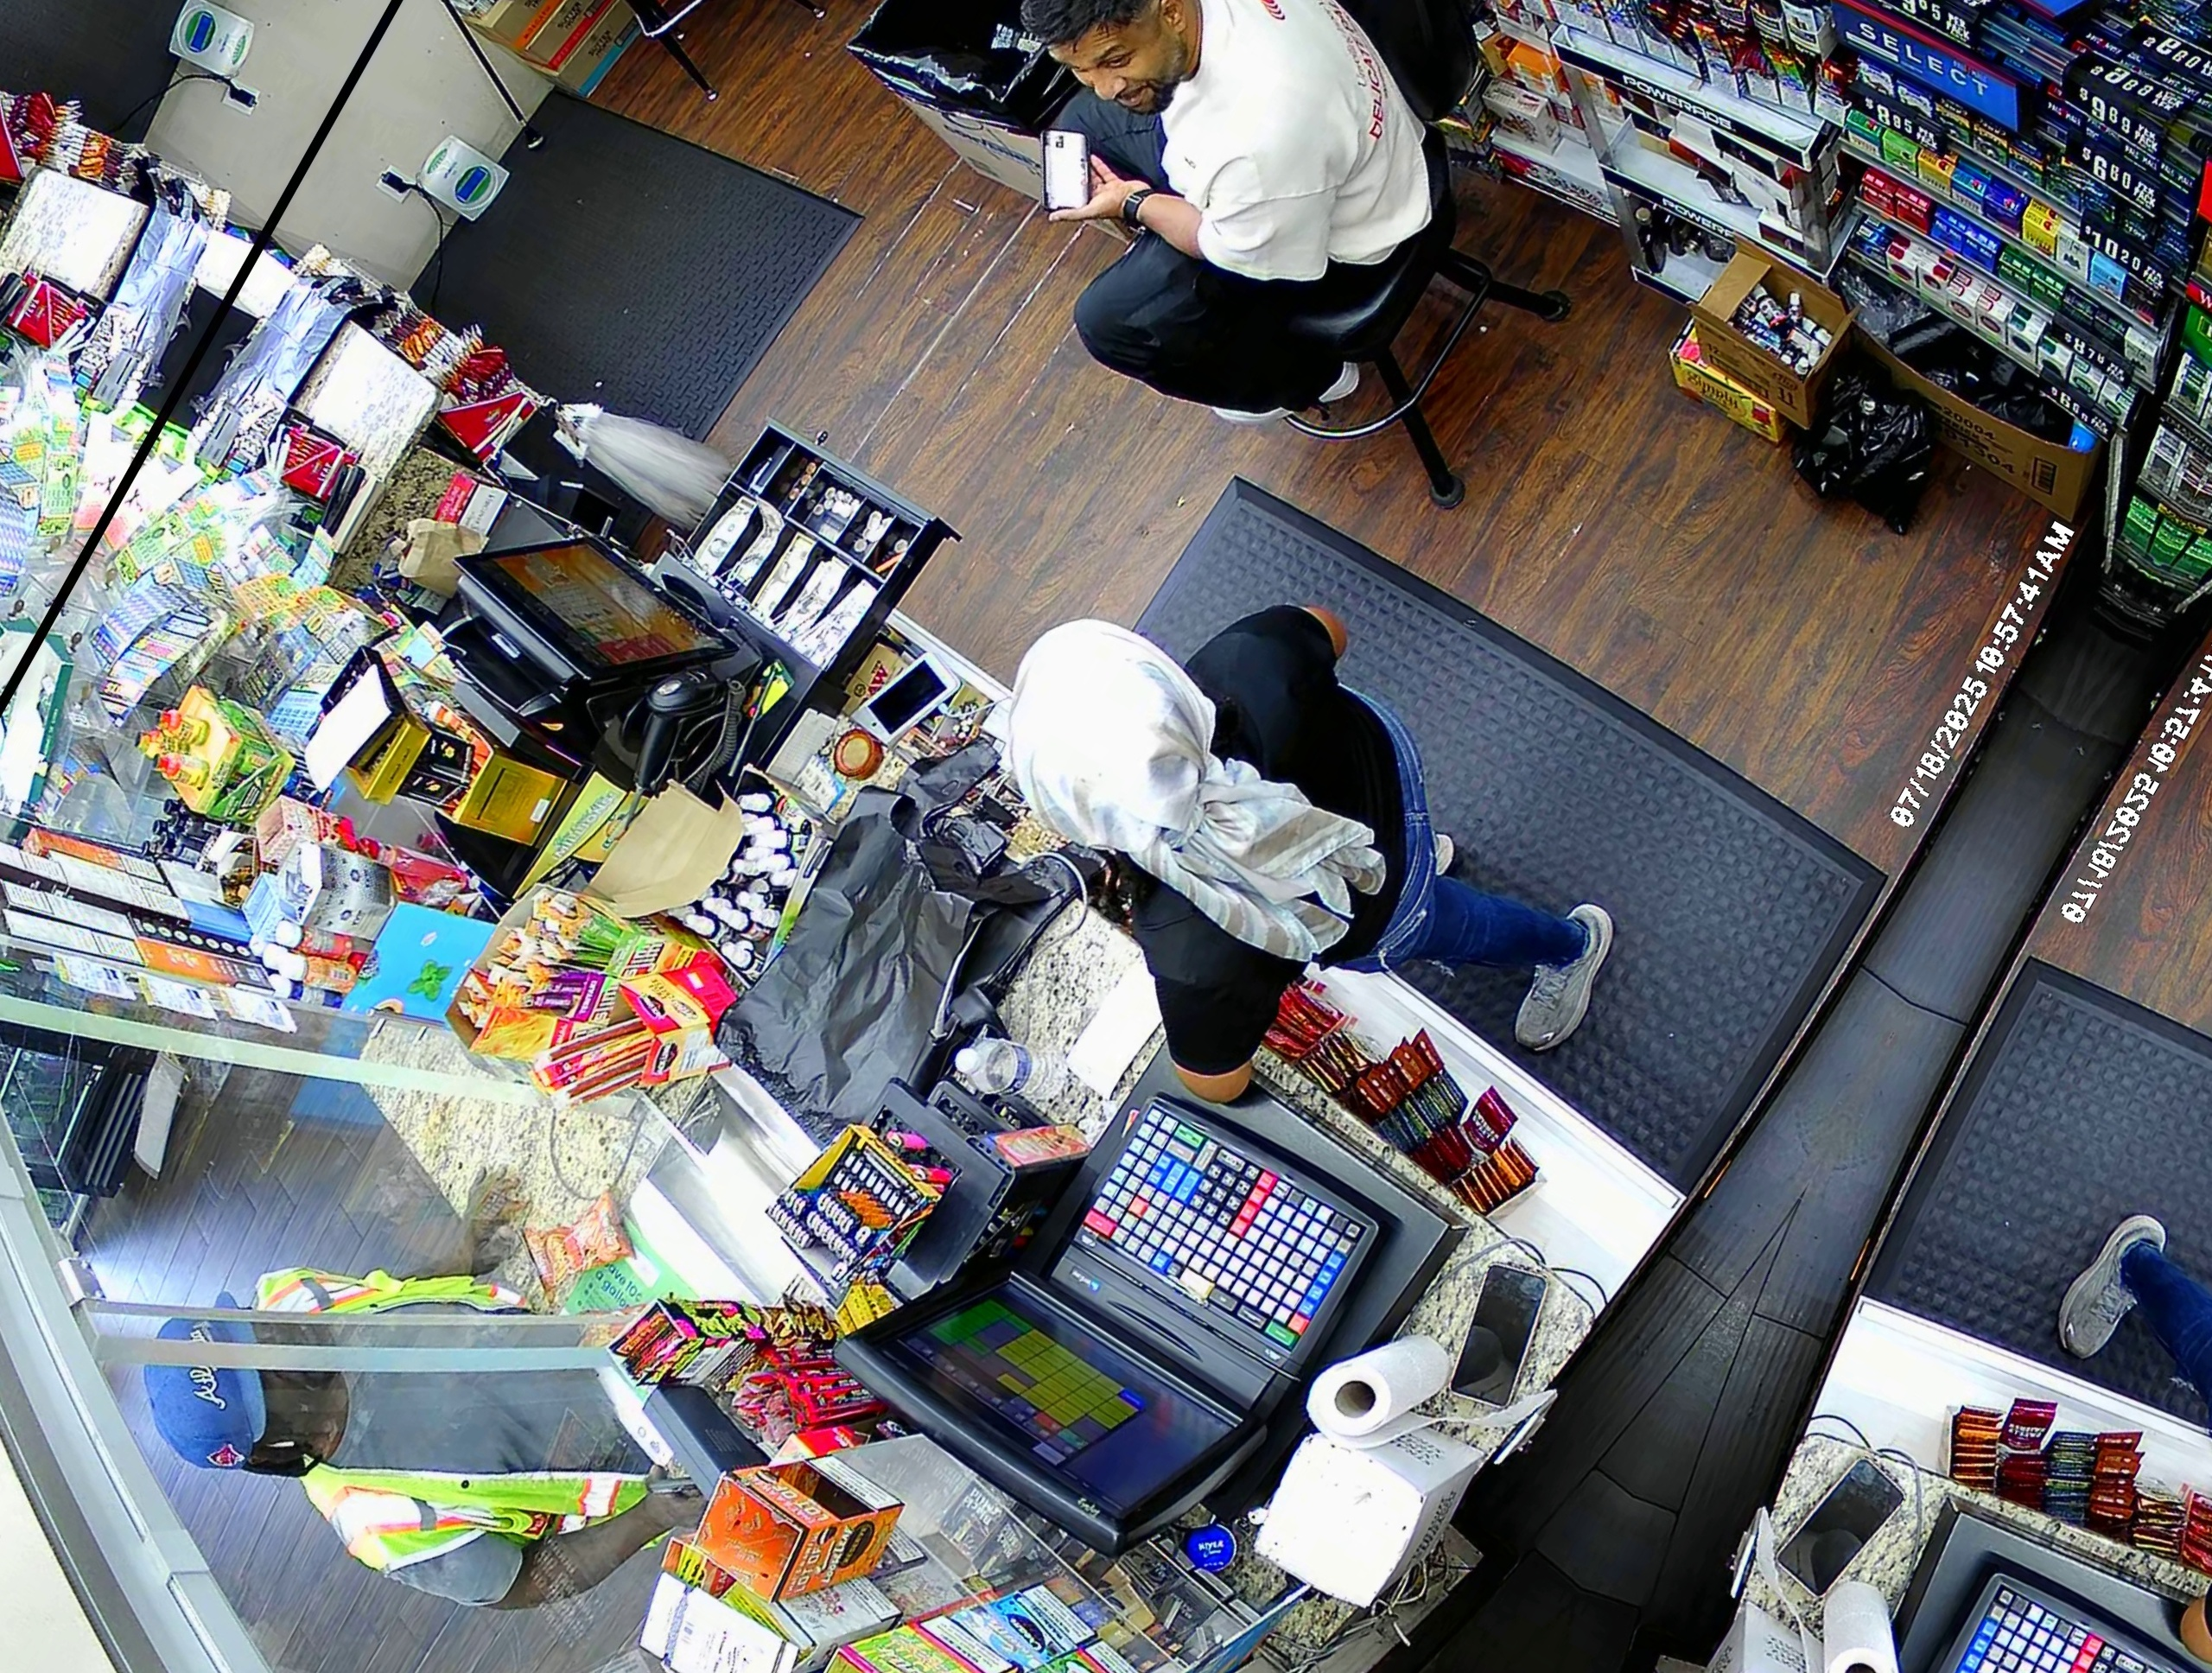phone: (1031, 119, 1100, 230), (661, 1464, 712, 1517)
